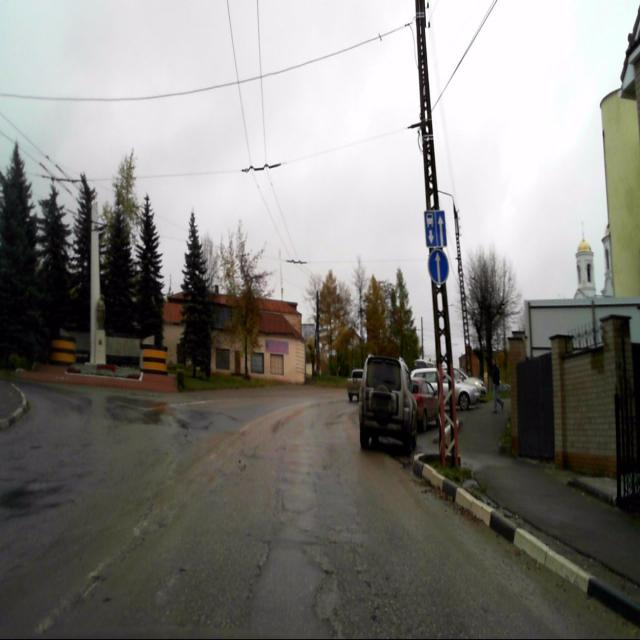road sign: (424, 210, 446, 248)
